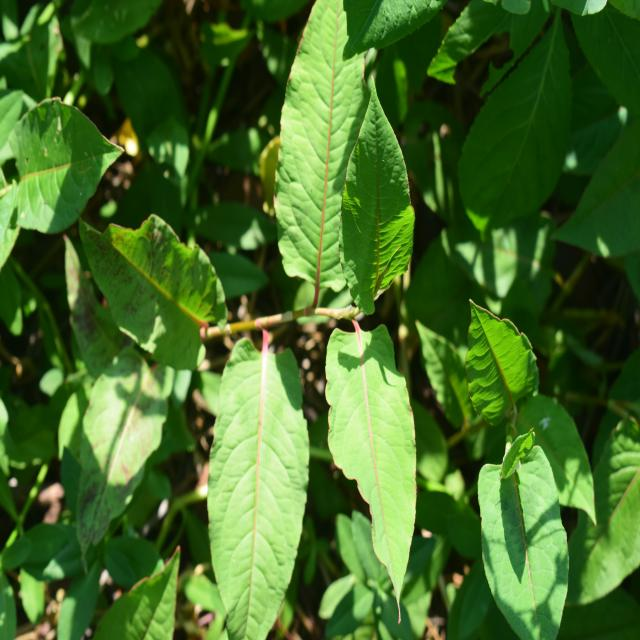Chinese_knotweed: (191, 34, 428, 595)
